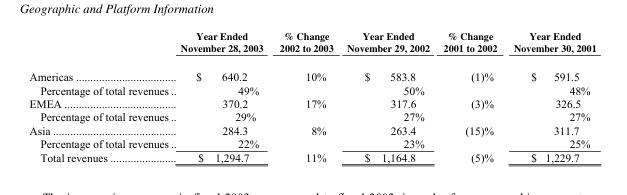table: (28, 28, 595, 163)
table column: (28, 28, 173, 163), (173, 28, 270, 163), (339, 28, 435, 163), (504, 28, 595, 163), (270, 28, 339, 163), (435, 28, 504, 163)
table column header: (28, 28, 595, 62)
table row: (28, 28, 595, 62), (28, 62, 595, 83), (28, 109, 595, 123), (28, 136, 595, 150), (28, 83, 595, 96), (28, 96, 595, 109), (28, 123, 595, 136), (28, 150, 595, 163)
